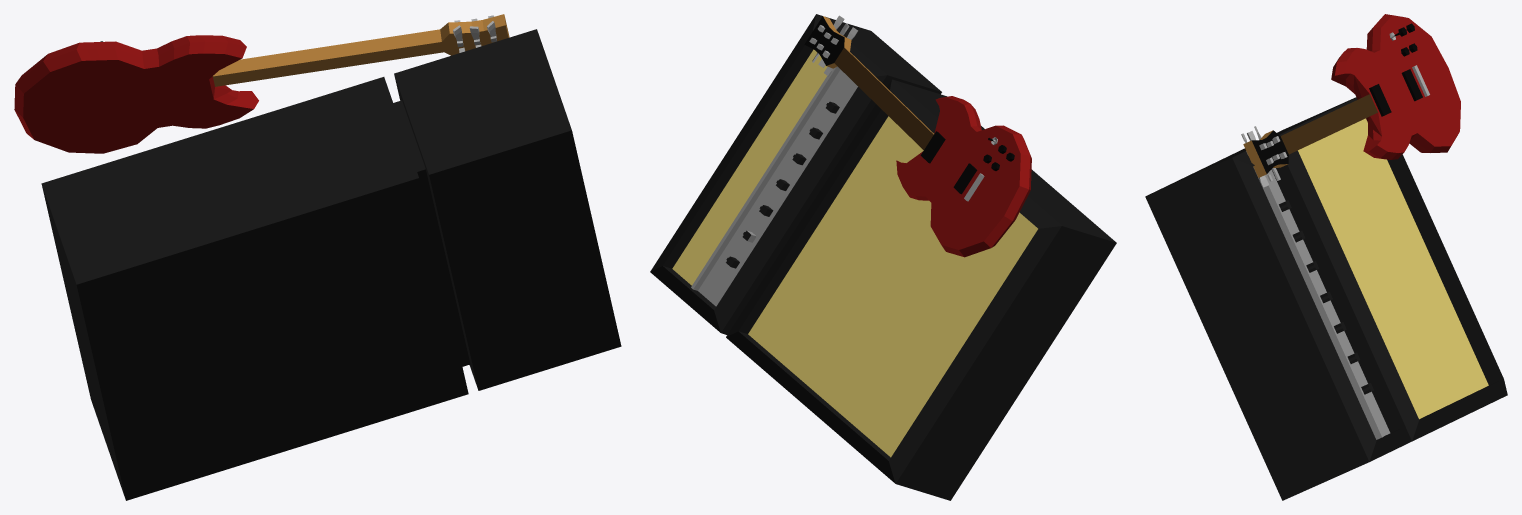
The model's file is planet_guitar.glb.
3 renders of one model, left to right at view 1: azimuth 30°, elevation 25°; view 2: azimuth 150°, elevation 25°; view 3: azimuth 270°, elevation 25°, orthographic. The views are drawn at different scales.
Parts seen in each view (by area): view 1: guitar; view 2: guitar; view 3: guitar.
Part boxes in pixels (box(x1,y1,x2,y2)): guitar: box(14, 14, 621, 500); guitar: box(650, 14, 1116, 500); guitar: box(1145, 14, 1507, 500).
Size of the model in its own units: 4.72 by 3.98 by 3.26.
